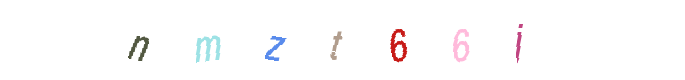6: (355, 0, 435, 80), (358, 0, 438, 80)
J: (385, 0, 465, 80)
M: (175, 0, 255, 80)
N: (99, 0, 179, 80)
T: (303, 0, 383, 80)
Z: (234, 0, 314, 80)
